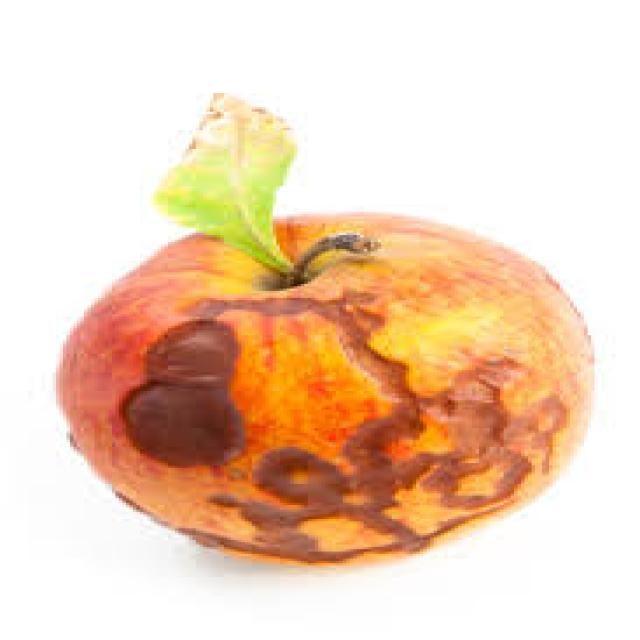food_waste: (56, 95, 588, 563)
